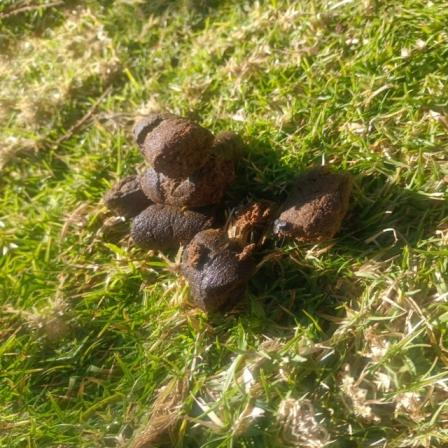dog-poop: (106, 114, 354, 305)
